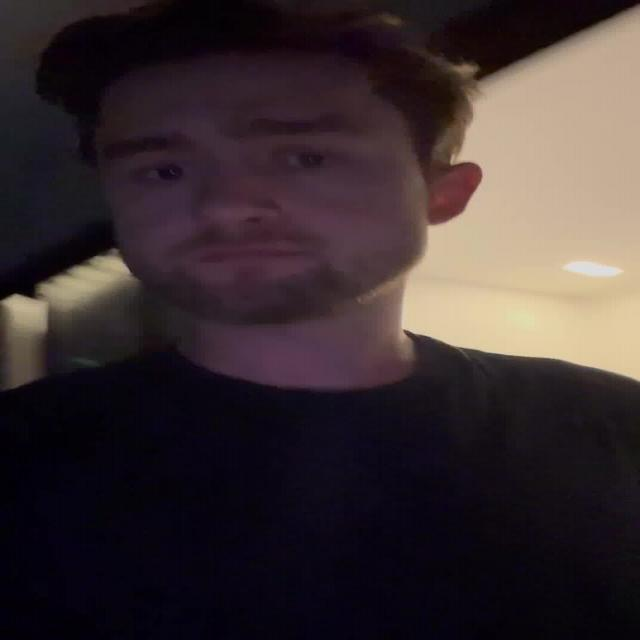earlobe: (426, 161, 482, 225)
